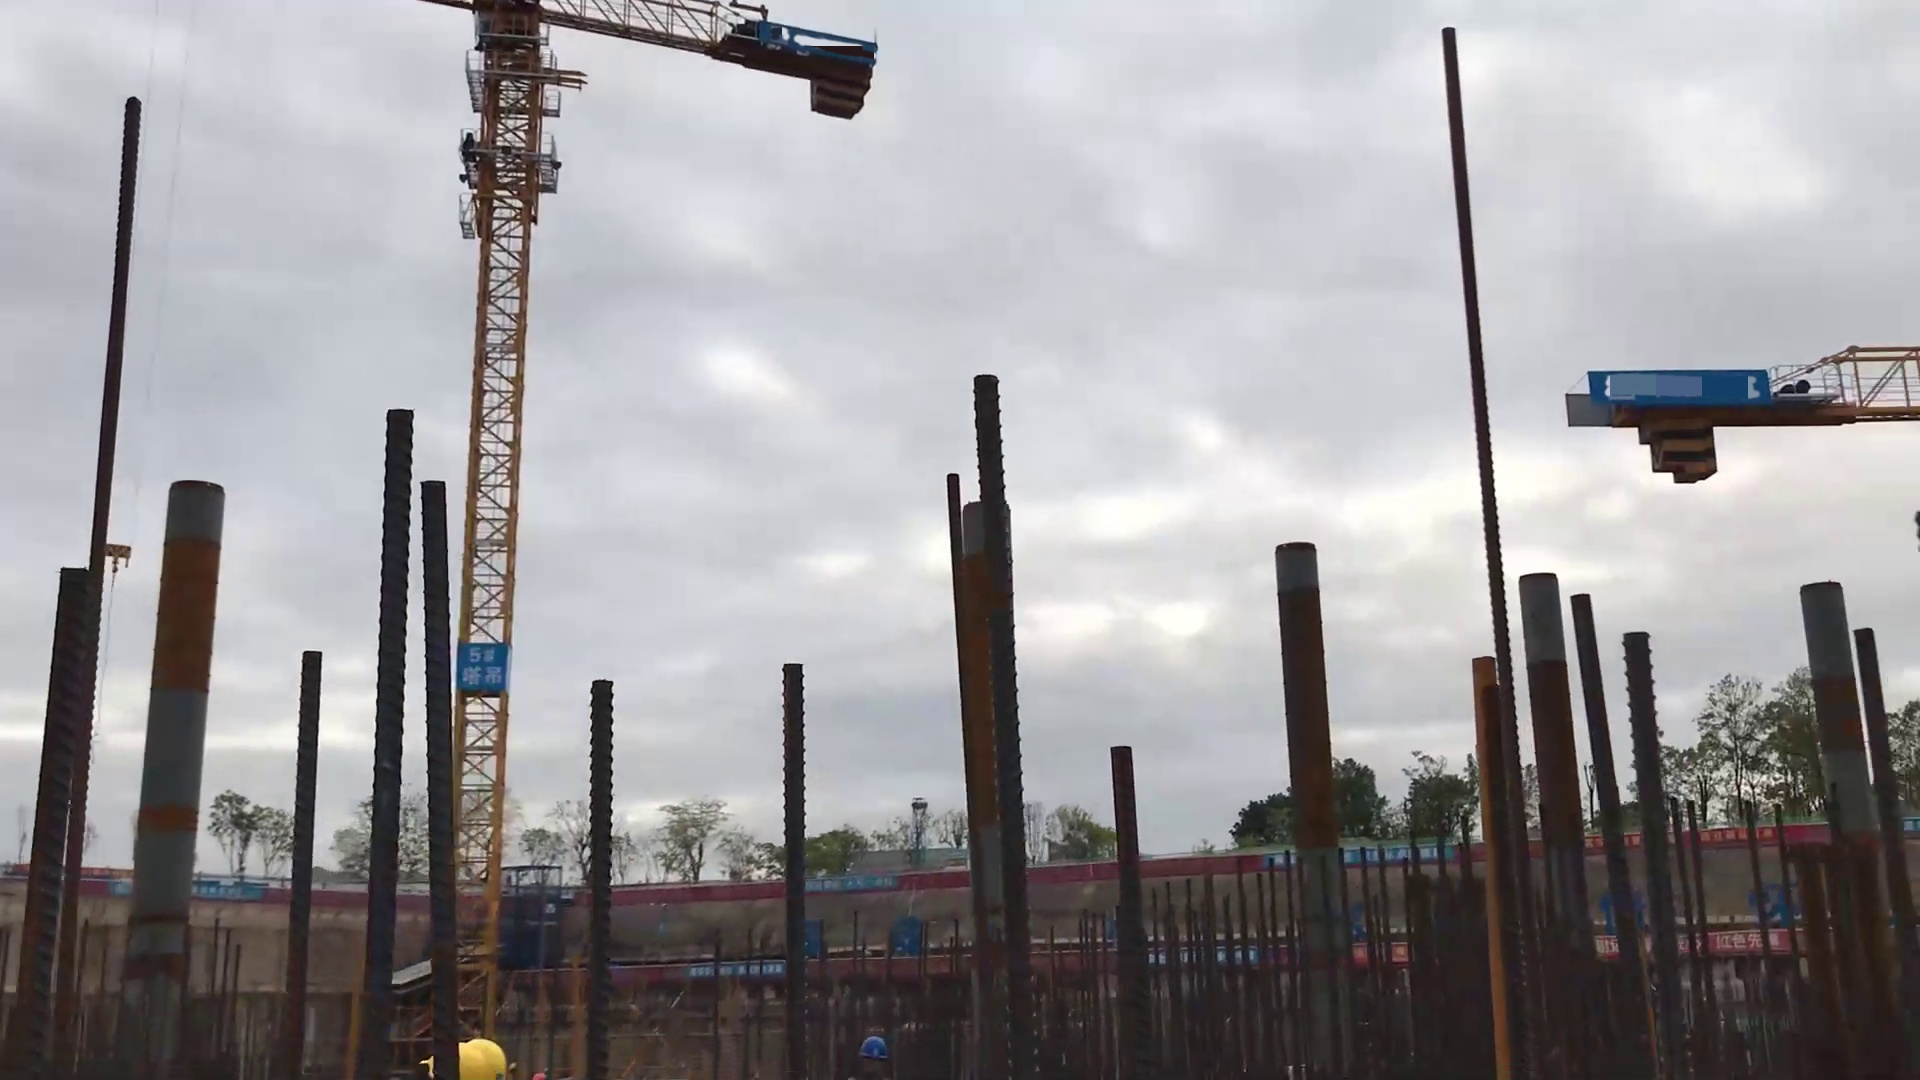fence: (618, 865, 778, 909), (1143, 845, 1273, 895), (906, 851, 972, 906), (1027, 858, 1124, 891), (319, 864, 361, 924)
helmet: (444, 1029, 512, 1080), (851, 1030, 889, 1064)
hook: (105, 539, 137, 583)
slogan: (807, 858, 903, 905), (456, 633, 513, 705)
